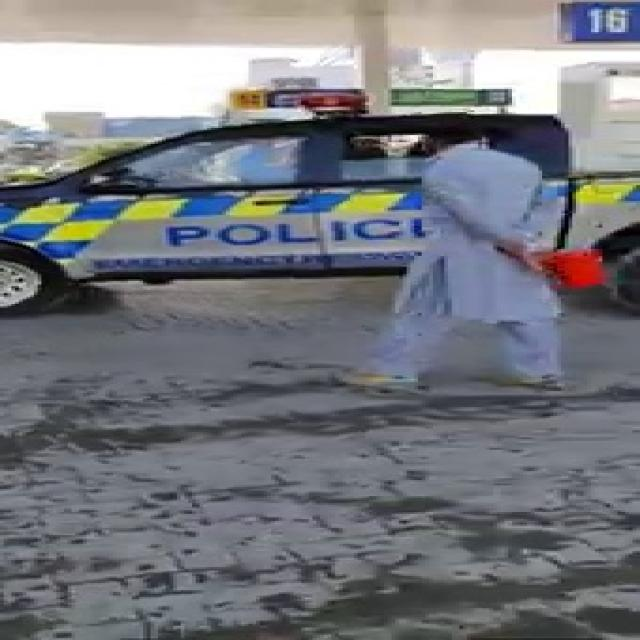police: (35, 50, 569, 285)
